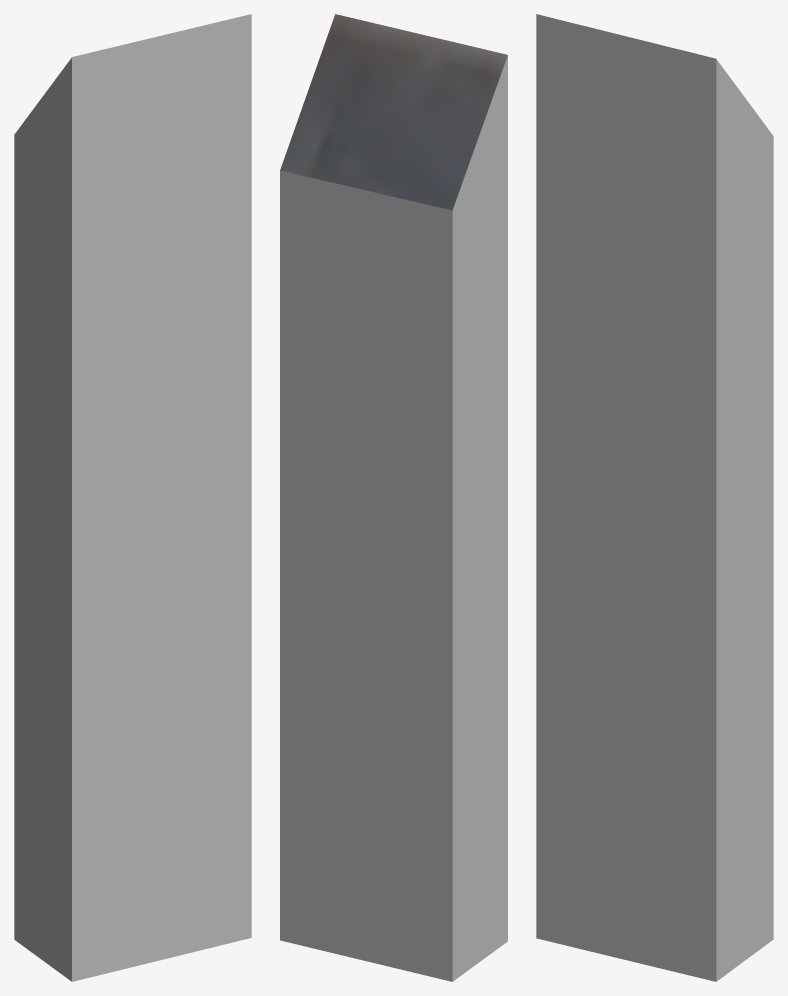
The model's file is DEBW_0010007THWr.gltf.
The picture shows the model from 3 angles, left to right: view 1: azimuth 30°, elevation 25°; view 2: azimuth 150°, elevation 25°; view 3: azimuth 330°, elevation 25°; orthographic projection. The views are drawn at different scales.
Parts seen in each view (by area): view 1: Z_UP; view 2: Z_UP; view 3: Z_UP.
Part boxes in pixels (<box>): Z_UP: <box>14,14,251,981</box>; Z_UP: <box>280,14,507,981</box>; Z_UP: <box>536,14,773,981</box>.
Bounding box in the file's own units: 3.61 × 17.74 × 2.03.
2 materials, 1 textured.
